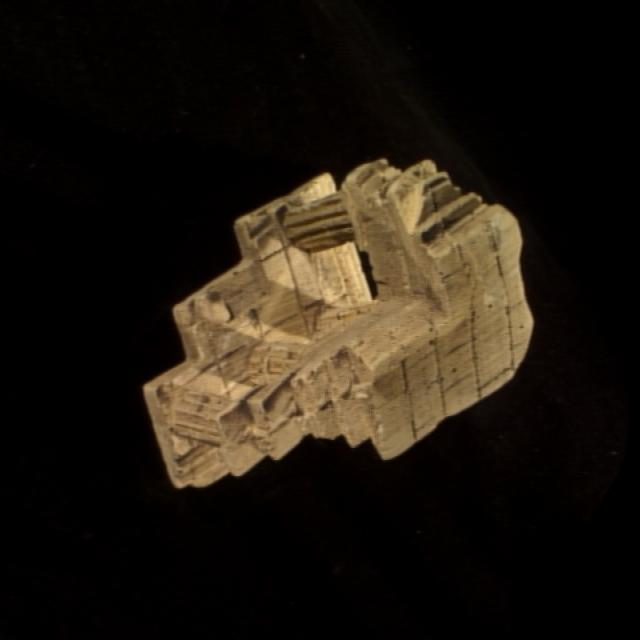Instance-Segmentation: (144, 160, 532, 487)
